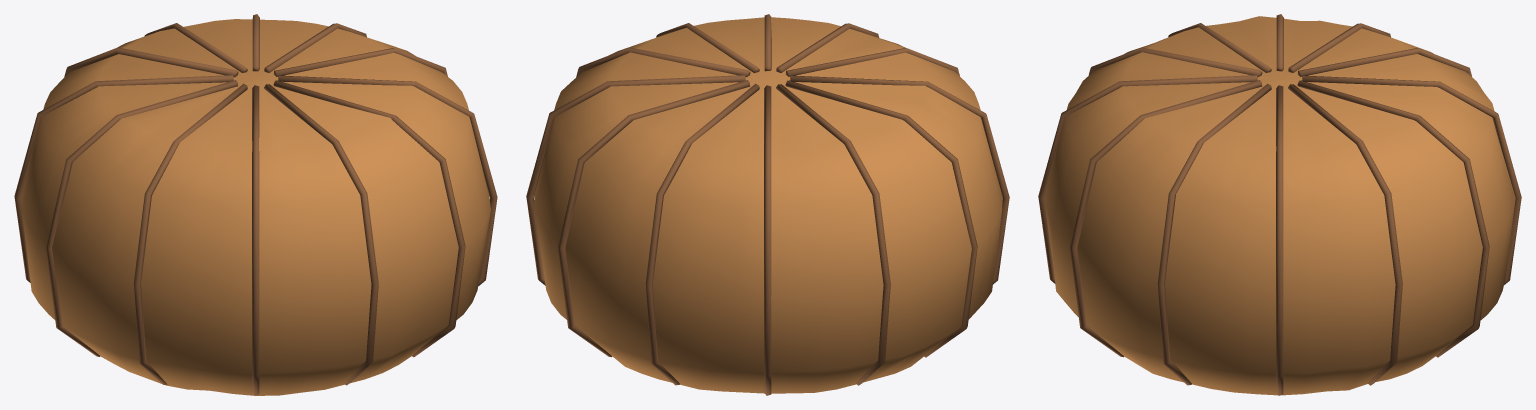
File: decor-pouf.glb
3 views of the same model, side by side, from view 1: azimuth 30°, elevation 25°; view 2: azimuth 150°, elevation 25°; view 3: azimuth 270°, elevation 25° (orthographic).
Parts seen in each view (by area): view 1: Pouf__Body, Pouf__Stitches; view 2: Pouf__Body, Pouf__Stitches; view 3: Pouf__Body, Pouf__Stitches.
Boxes of the visible parts, box(x1,y1,x2,y2) form: Pouf__Body: box(20, 19, 490, 395); Pouf__Stitches: box(14, 14, 497, 395); Pouf__Body: box(534, 17, 1002, 393); Pouf__Stitches: box(526, 14, 1009, 395); Pouf__Body: box(1044, 16, 1515, 395); Pouf__Stitches: box(1038, 14, 1521, 395).
Bounding box in the file's own units: 43.06 × 24.06 × 43.06.
